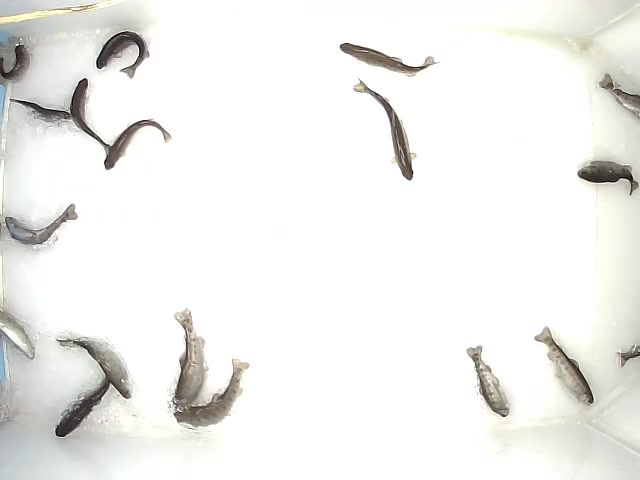fish: (351, 77, 418, 182), (55, 330, 135, 401), (170, 356, 250, 426), (532, 325, 597, 408), (54, 367, 114, 438), (172, 305, 209, 413), (103, 118, 172, 172), (339, 41, 440, 77), (68, 77, 114, 156), (464, 345, 511, 419), (4, 202, 78, 247), (94, 30, 151, 80), (576, 159, 640, 198), (596, 71, 640, 123), (7, 96, 75, 128), (1, 309, 35, 360), (1, 43, 31, 83), (617, 338, 640, 370)
